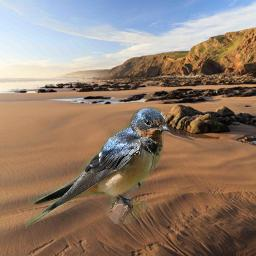Swallow: (25, 107, 170, 229)
